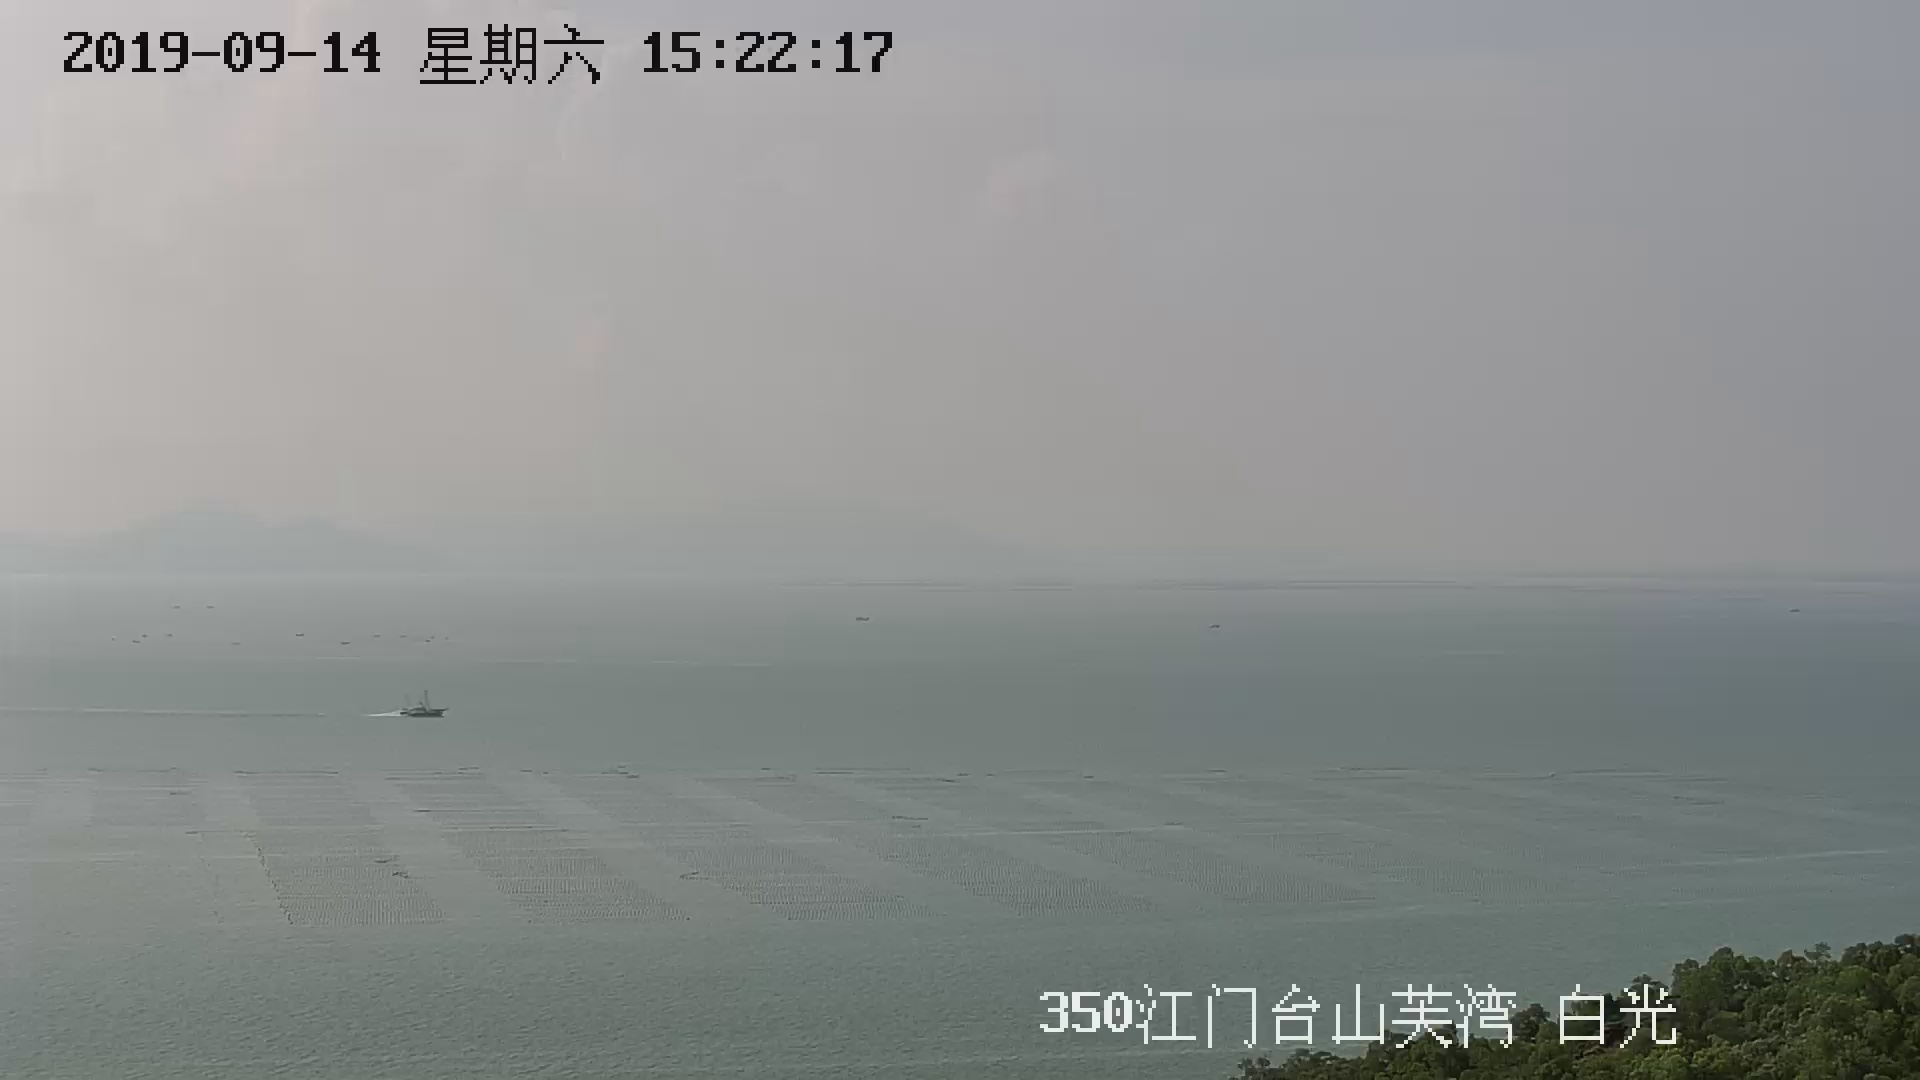ship: (392, 692, 448, 721)
